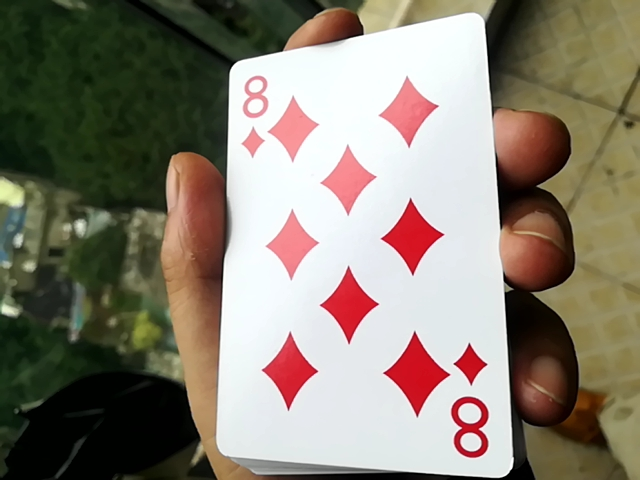fk 8: (207, 1, 498, 478)
